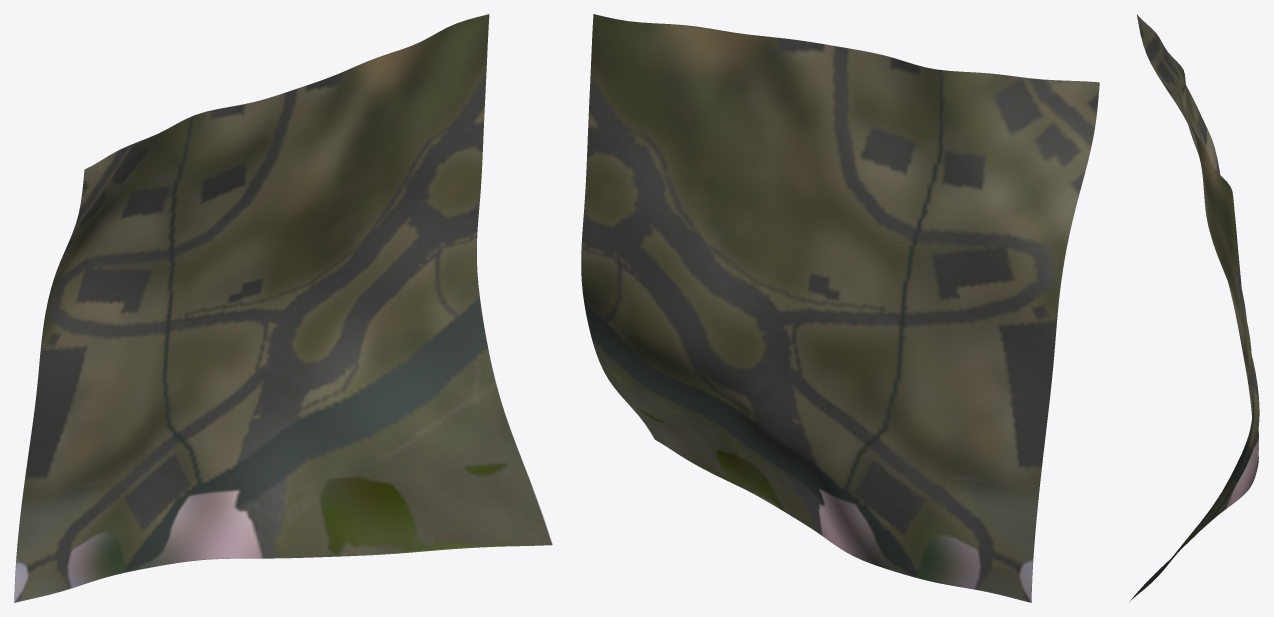
The model's file is ground_mid_03_00.obj.
3 views of the same model, side by side, from view 1: azimuth 30°, elevation 25°; view 2: azimuth 150°, elevation 25°; view 3: azimuth 270°, elevation 25° (orthographic). The views are drawn at different scales.
Parts seen in each view (by area): view 1: ground_mid_03_00; view 2: ground_mid_03_00; view 3: ground_mid_03_00.
Boxes of the visible parts, box(x1,y1,x2,y2) form: ground_mid_03_00: box(14, 14, 552, 602); ground_mid_03_00: box(581, 14, 1099, 602); ground_mid_03_00: box(1129, 14, 1259, 601).
Size of the model in its own units: 200 by 200 by 59.19.
1 material, 1 textured.
